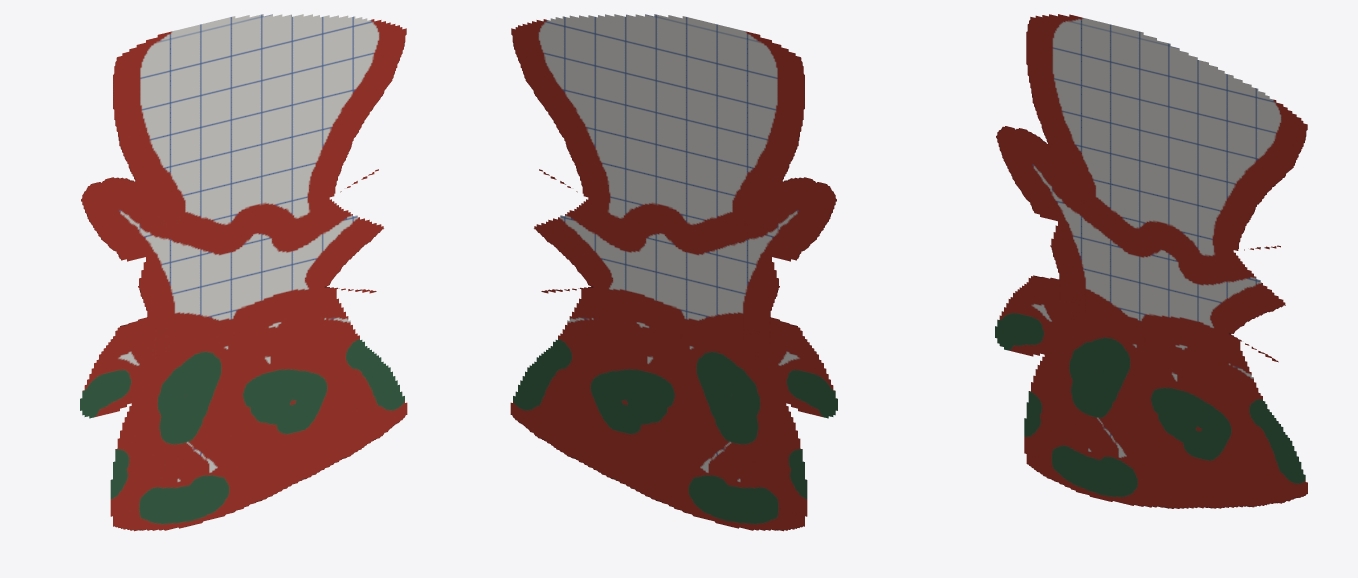
The model's file is special_mushroom.glb.
3 renders of one model, left to right at view 1: azimuth 30°, elevation 25°; view 2: azimuth 150°, elevation 25°; view 3: azimuth 330°, elevation 25°, orthographic. The views are drawn at different scales.
Parts seen in each view (by area): view 1: cutout; view 2: cutout; view 3: cutout.
Part boxes in pixels (x1,y1,x2,y2): cutout: (80, 14, 407, 531); cutout: (510, 14, 837, 531); cutout: (995, 14, 1307, 508).
Size of the model in its own units: 2.15 by 2.59 by 0.
Materials: 1 (1 with a texture image).
